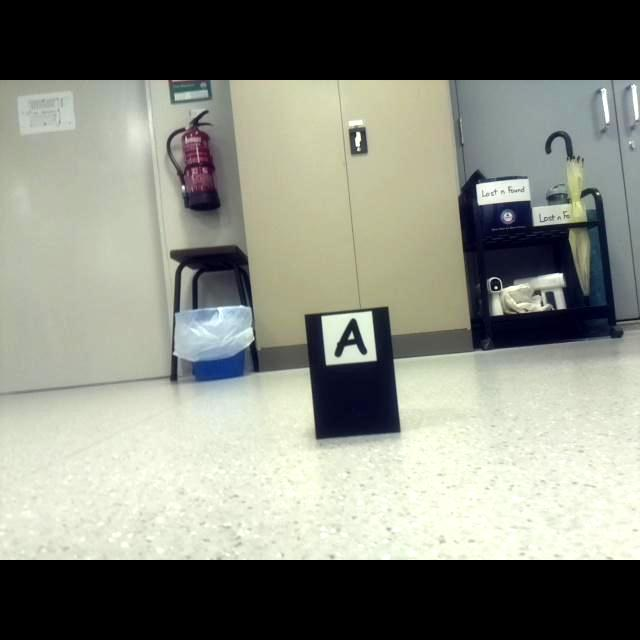A: (335, 317, 368, 358)
